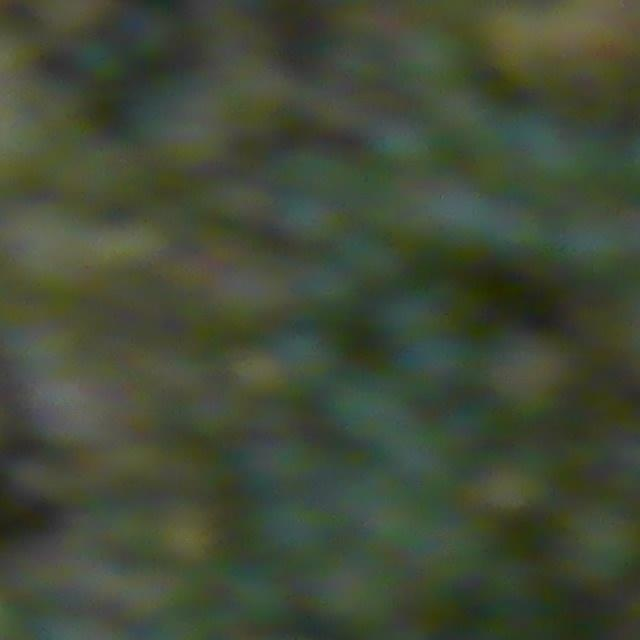SeaGrape: (560, 499, 640, 585), (393, 18, 470, 92), (370, 110, 436, 173)
